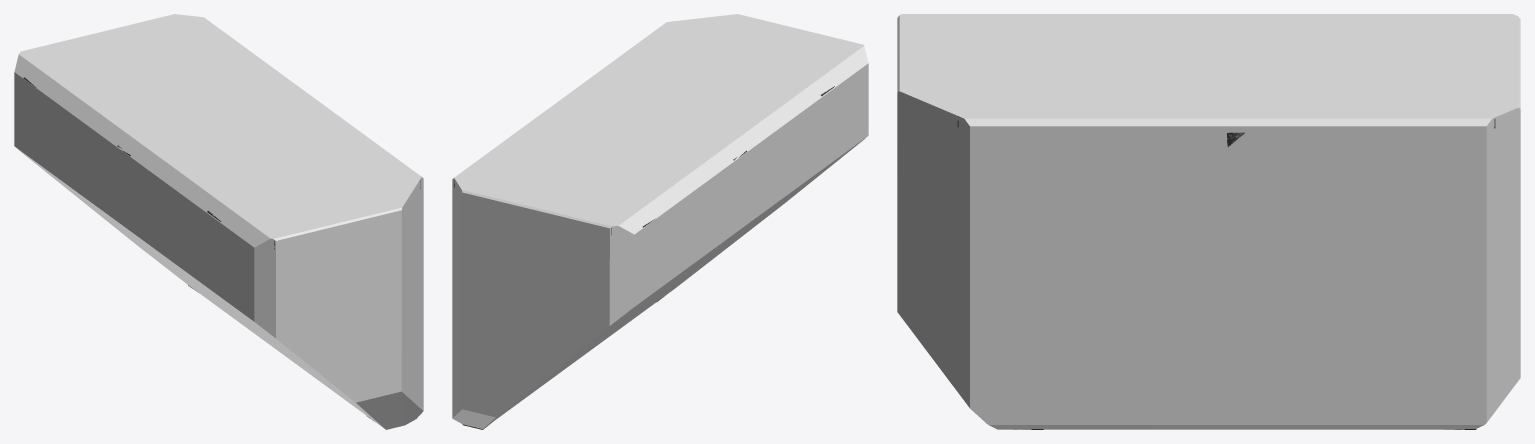
Rendered from SM_separate_window_balkony_01.fbx.
3 views of the same model, side by side, from view 1: azimuth 30°, elevation 25°; view 2: azimuth 150°, elevation 25°; view 3: azimuth 270°, elevation 25° (orthographic). The views are drawn at different scales.
Visible parts, largest first — view 1: SM_separate_window_balkony_01_ConvexHulls; view 2: SM_separate_window_balkony_01_ConvexHulls; view 3: SM_separate_window_balkony_01_ConvexHulls.
Part boxes in pixels (<box>): SM_separate_window_balkony_01_ConvexHulls: <box>14,14,423,429</box>; SM_separate_window_balkony_01_ConvexHulls: <box>452,14,868,429</box>; SM_separate_window_balkony_01_ConvexHulls: <box>897,14,1520,429</box>.
Bounding box in the file's own units: 117 × 271 × 150.
